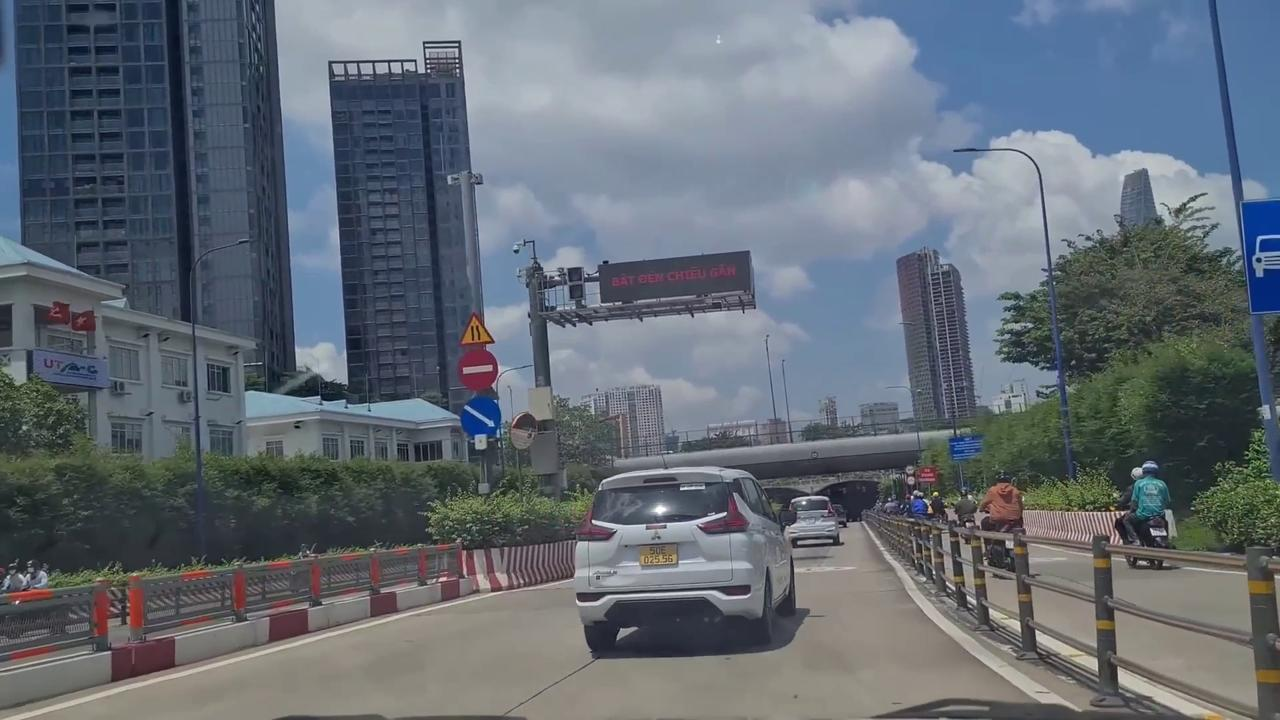Cấm đi ngược chiều: (457, 346, 500, 392)
Hướng phải đi vòng sang phải: (460, 397, 501, 436)
Đuờng hẹp: (458, 310, 496, 346)
